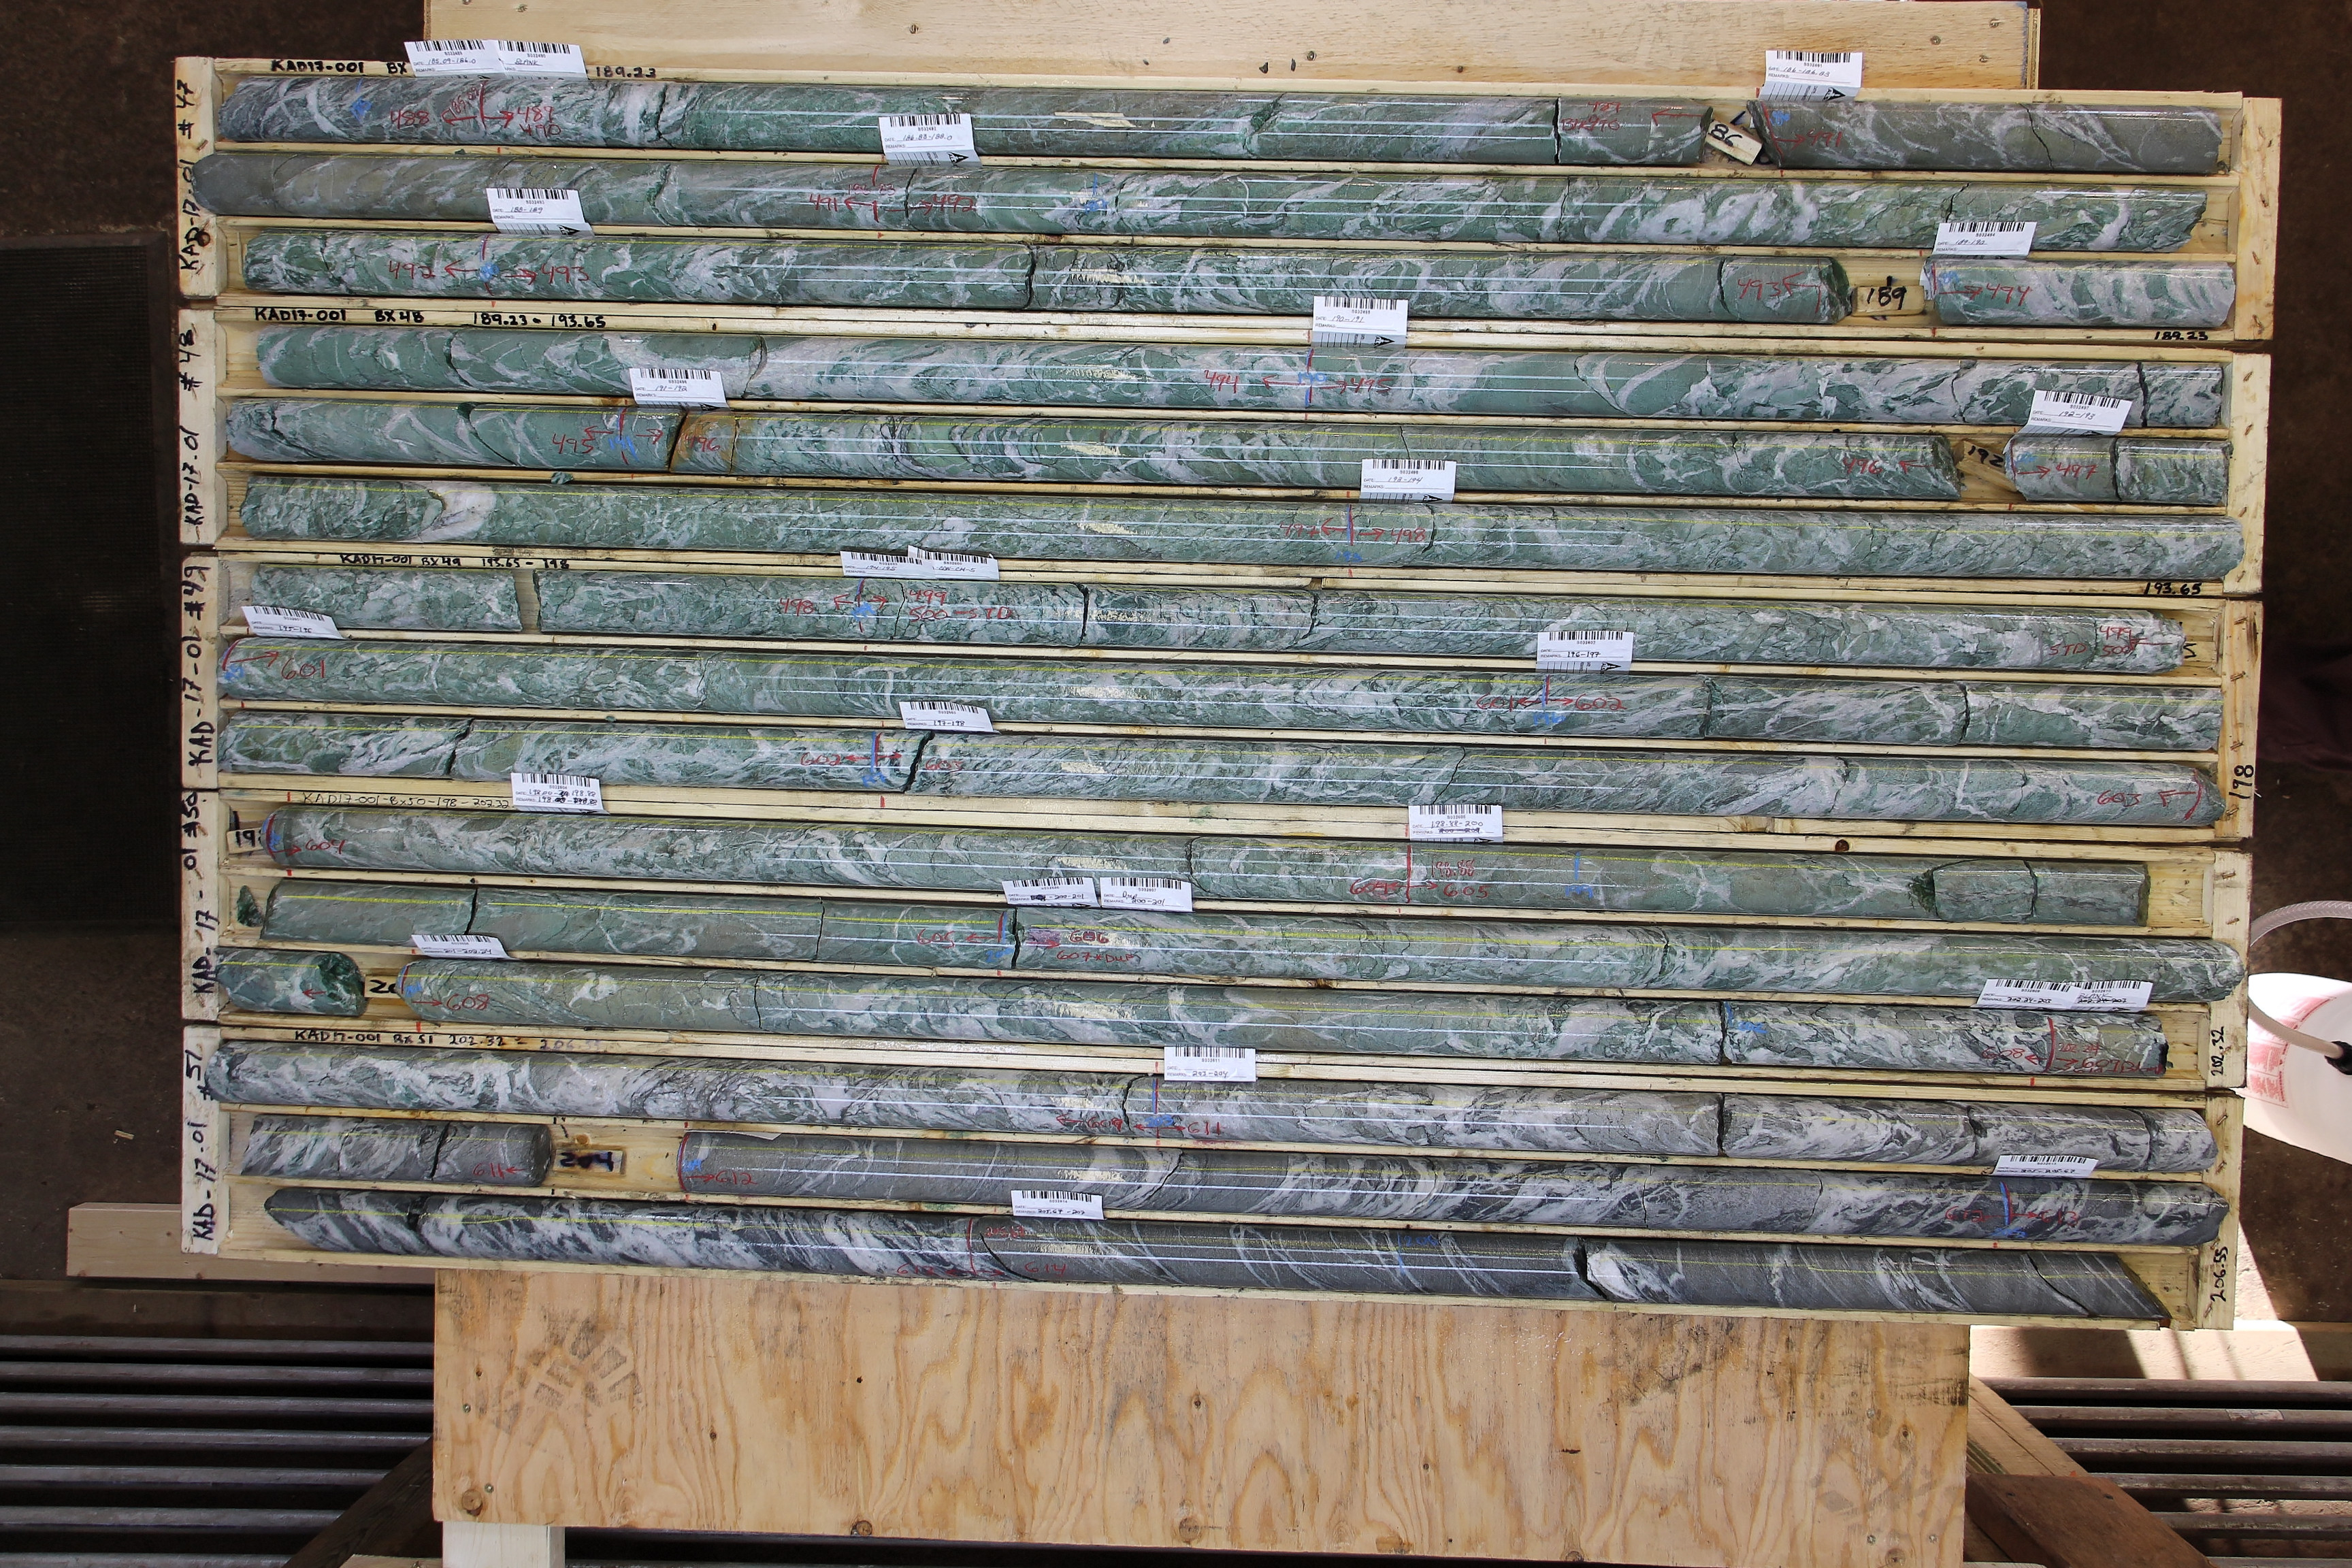rock-KAD17_001-184.90-185: (224, 76, 361, 140)
rock-KAD17_001-185-186: (366, 82, 1708, 165)
rock-KAD17_001-186-186x: (1763, 107, 2218, 174)
rock-KAD17_001-186x-187: (216, 157, 1094, 229)
rock-KAD17_001-187-187x: (1096, 175, 2193, 249)
rock-KAD17_001-187x-188: (246, 231, 486, 296)
rock-KAD17_001-188-189: (491, 240, 1844, 325)
rock-KAD17_001-189-189x: (1934, 263, 2229, 325)
rock-KAD17_001-189x-190: (269, 327, 1308, 409)
rock-KAD17_001-190-190x: (1309, 351, 2227, 425)
rock-KAD17_001-190x-191: (231, 399, 623, 468)
rock-KAD17_001-191-192: (625, 408, 1953, 497)
rock-KAD17_001-192-192x: (2014, 439, 2225, 502)
rock-KAD17_001-192x-193: (248, 480, 1347, 567)
rock-KAD17_001-193-193x: (1350, 506, 2229, 579)
rock-KAD17_001-193x-194: (258, 566, 862, 638)
rock-KAD17_001-194-195: (862, 584, 2183, 673)
rock-KAD17_001-195-196: (233, 638, 1546, 734)
rock-KAD17_001-196-196x: (1547, 674, 2219, 752)
rock-KAD17_001-196x-197: (227, 713, 874, 794)
rock-KAD17_001-197-198: (877, 734, 2217, 826)
rock-KAD17_001-198-199: (284, 813, 1577, 909)
rock-KAD17_001-199-199x: (1579, 849, 2148, 921)
rock-KAD17_001-199x-200: (274, 879, 998, 964)
rock-KAD17_001-200-200x: (1000, 908, 2214, 1002)
rock-KAD17_001-200x-201: (220, 949, 365, 1014)
rock-KAD17_001-201-202: (412, 964, 1731, 1061)
rock-KAD17_001-202-202x: (1733, 1002, 2166, 1075)
rock-KAD17_001-202x-203: (220, 1043, 1156, 1135)
rock-KAD17_001-203-203x: (1158, 1078, 2206, 1170)
rock-KAD17_001-203x-204: (252, 1117, 540, 1185)
rock-KAD17_001-204-205: (680, 1130, 2007, 1235)
rock-KAD17_001-205-205x: (2007, 1177, 2207, 1241)
rock-KAD17_001-205x-206: (267, 1192, 1402, 1292)
rock-KAD17_001-206-206.55: (1401, 1236, 2178, 1316)
